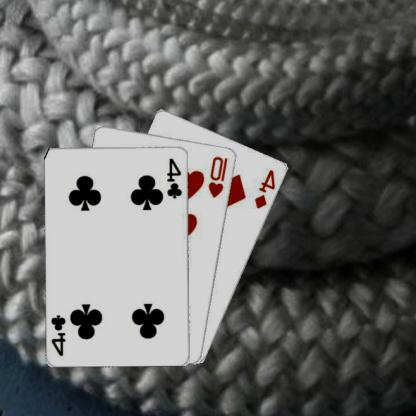10H: (208, 154, 231, 198)
4C: (166, 155, 186, 199), (50, 312, 69, 357)
4D: (254, 167, 279, 210)
